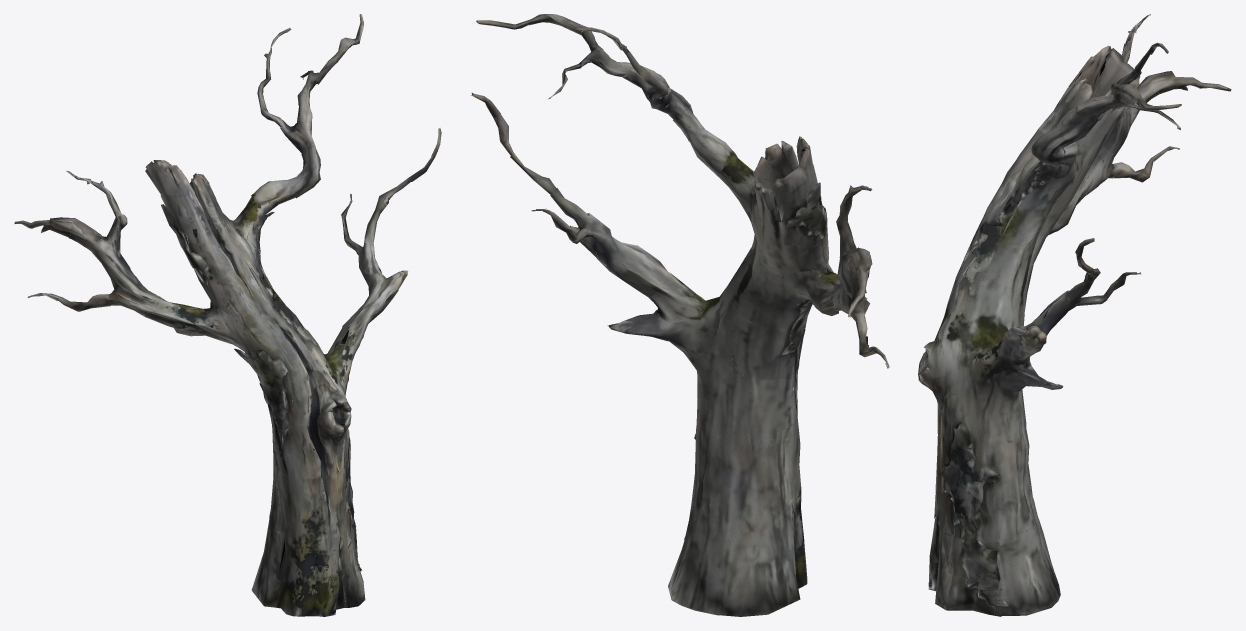
Rendered from dead_tree.glb.
3 renders of one model, left to right at view 1: azimuth 30°, elevation 25°; view 2: azimuth 150°, elevation 25°; view 3: azimuth 270°, elevation 25°, orthographic. The views are drawn at different scales.
Visible parts, largest first — view 1: dead_tree_p2; view 2: dead_tree_p2; view 3: dead_tree_p2.
Boxes of the visible parts, x1,y1,x2,y2 form: dead_tree_p2: (14, 14, 441, 616); dead_tree_p2: (471, 14, 889, 616); dead_tree_p2: (918, 14, 1231, 616).
Bounding box in the file's own units: 0.7937 × 1 × 0.497.
2 materials, 2 textured.
